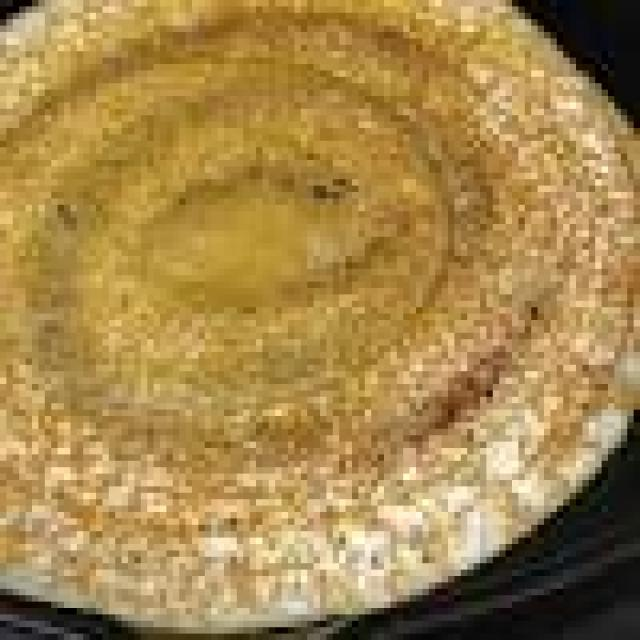dosa: (0, 0, 621, 621)
